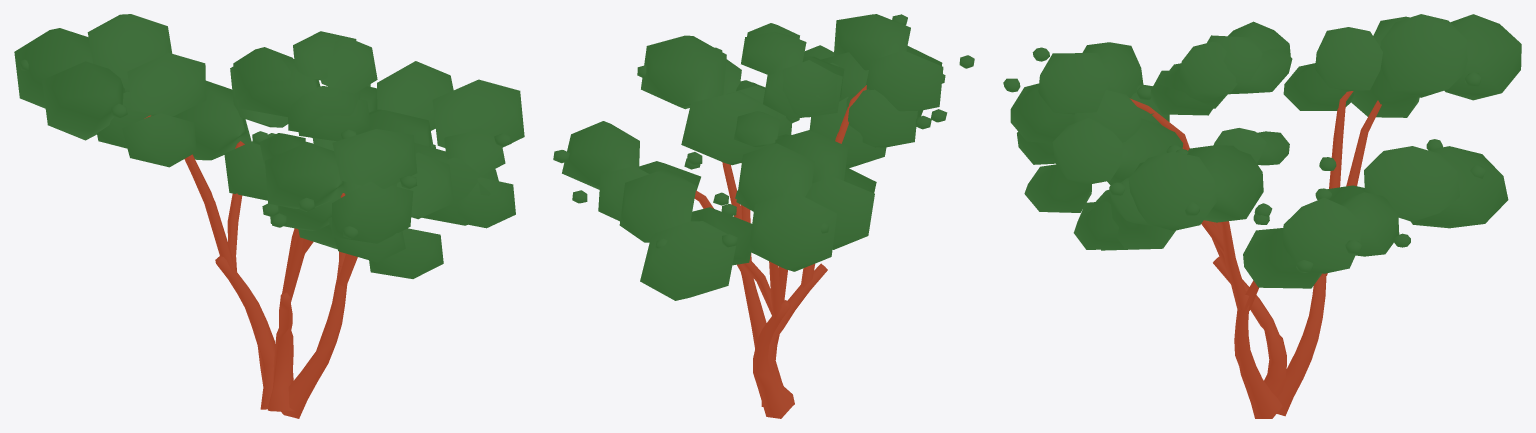
File: Blender_Madrone_1_Far.glb
3 renders of one model, left to right at view 1: azimuth 30°, elevation 25°; view 2: azimuth 150°, elevation 25°; view 3: azimuth 270°, elevation 25°, orthographic. The views are drawn at different scales.
Parts seen in each view (by area): view 1: Blender_Madrone_1_Far; view 2: Blender_Madrone_1_Far; view 3: Blender_Madrone_1_Far.
Part boxes in pixels (x1,y1,x2,y2): Blender_Madrone_1_Far: (14,14,524,418); Blender_Madrone_1_Far: (553,14,974,418); Blender_Madrone_1_Far: (1003,14,1521,418).
Size of the model in its own units: 14.77 by 15.1 by 18.19.
